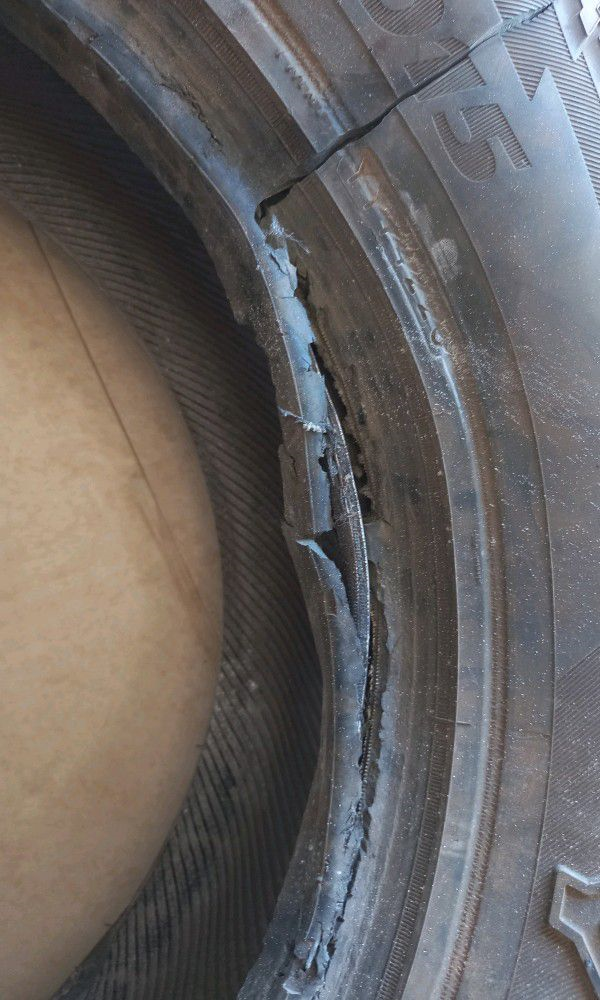bead_damage: (67, 2, 568, 993)
